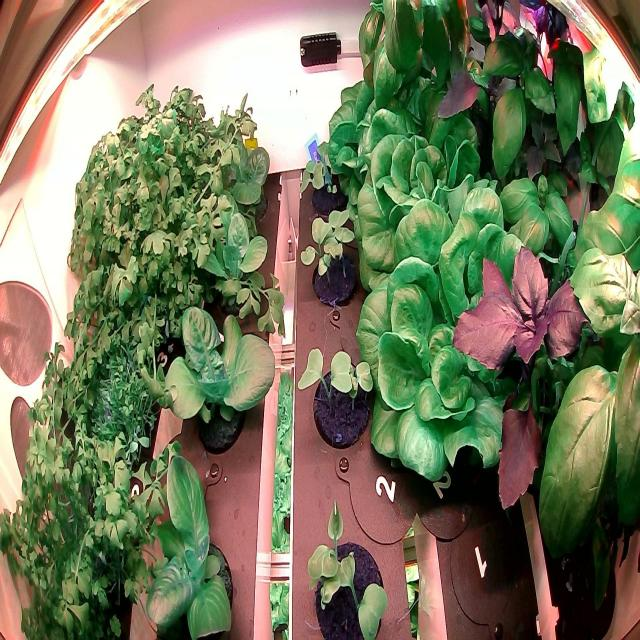Ready: (344, 178, 564, 492), (349, 103, 503, 295), (326, 65, 478, 199)
empty_pod: (442, 500, 527, 638)
young: (124, 436, 256, 639), (152, 287, 284, 453), (181, 172, 273, 333), (192, 116, 277, 244)
